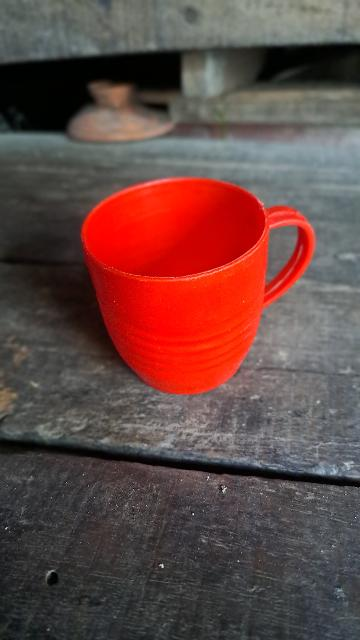hardplastic: (83, 179, 318, 396)
